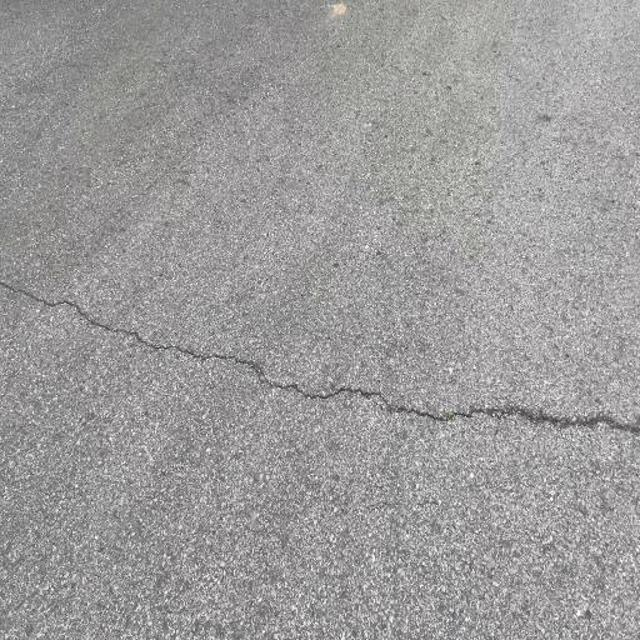Melintang: (0, 262, 640, 456)
